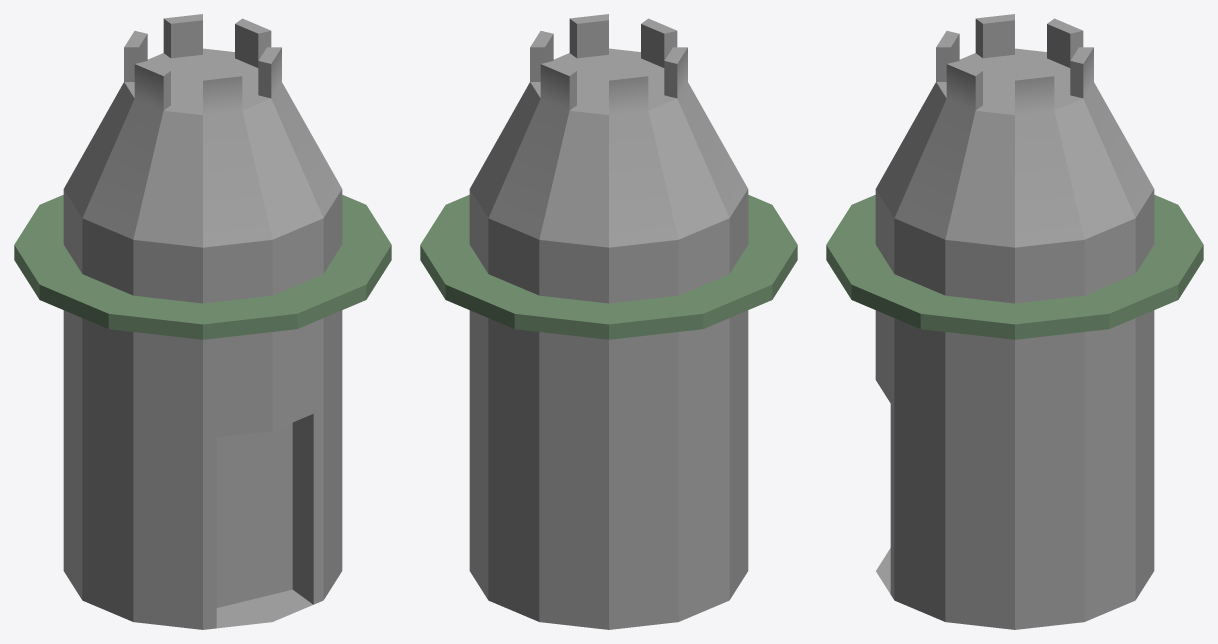
The model's file is Bcastle3.fbx.
3 renders of one model, left to right at view 1: azimuth 30°, elevation 25°; view 2: azimuth 150°, elevation 25°; view 3: azimuth 270°, elevation 25°, orthographic.
Parts seen in each view (by area): view 1: pCylinder10; view 2: pCylinder10; view 3: pCylinder10.
Boxes of the visible parts, x1,y1,x2,y2 form: pCylinder10: (14,14,391,629); pCylinder10: (420,14,797,629); pCylinder10: (826,14,1203,629).
Size of the model in its own units: 2711 by 4152 by 2711.
